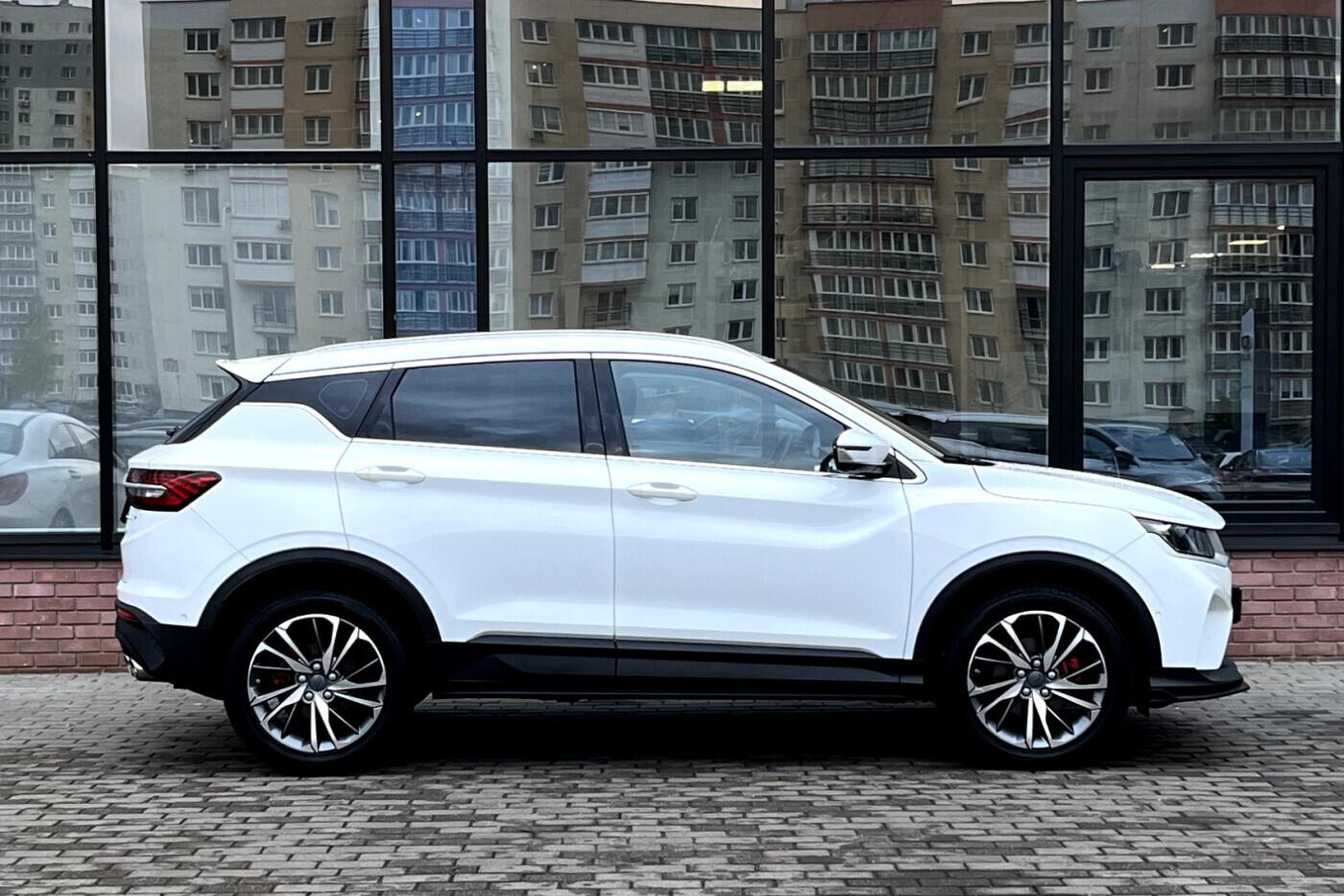Coolray_2019-2023: (97, 327, 1256, 761)
